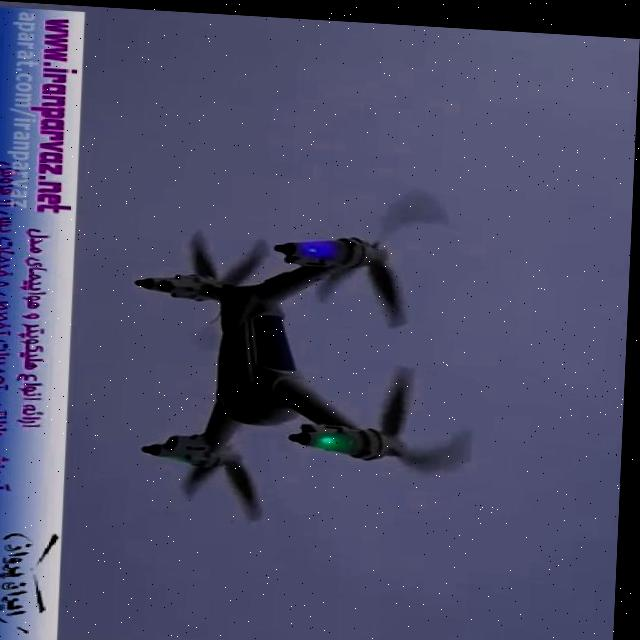drone: (123, 157, 496, 537)
